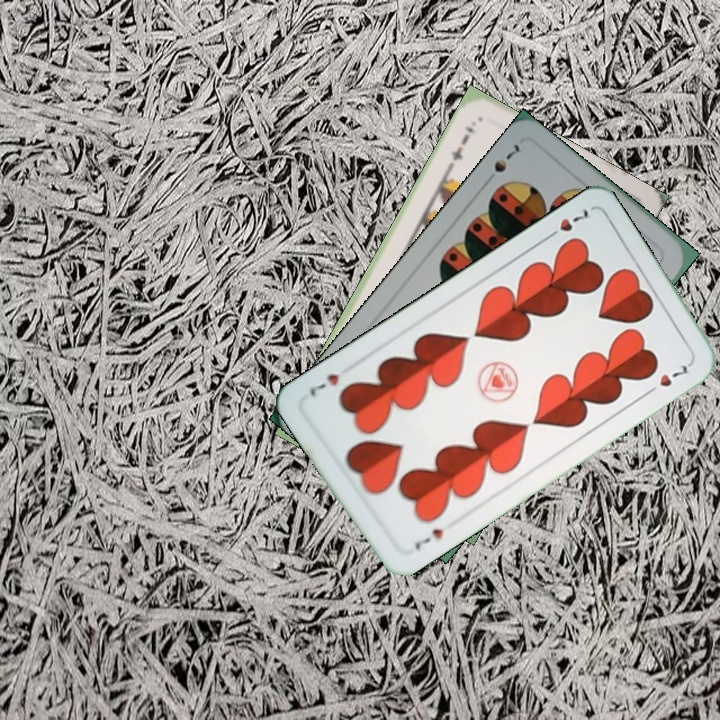E7: (444, 122, 478, 171)
H7: (541, 203, 591, 243), (410, 524, 446, 553)
S7: (480, 140, 524, 187)
